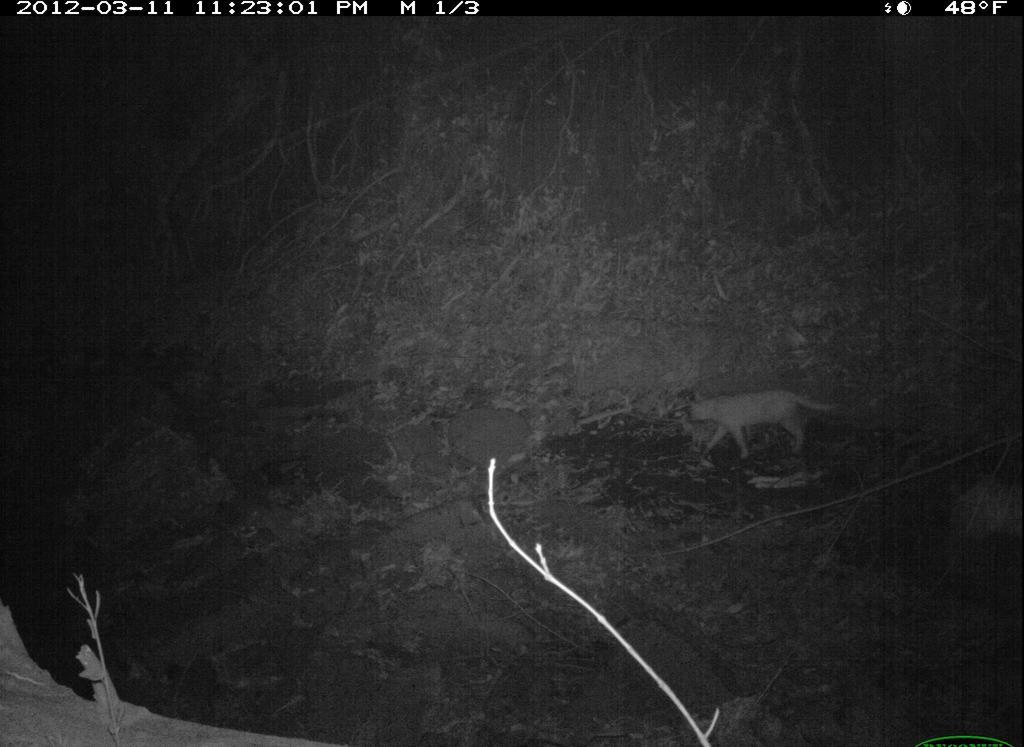cat: (678, 379, 843, 470)
